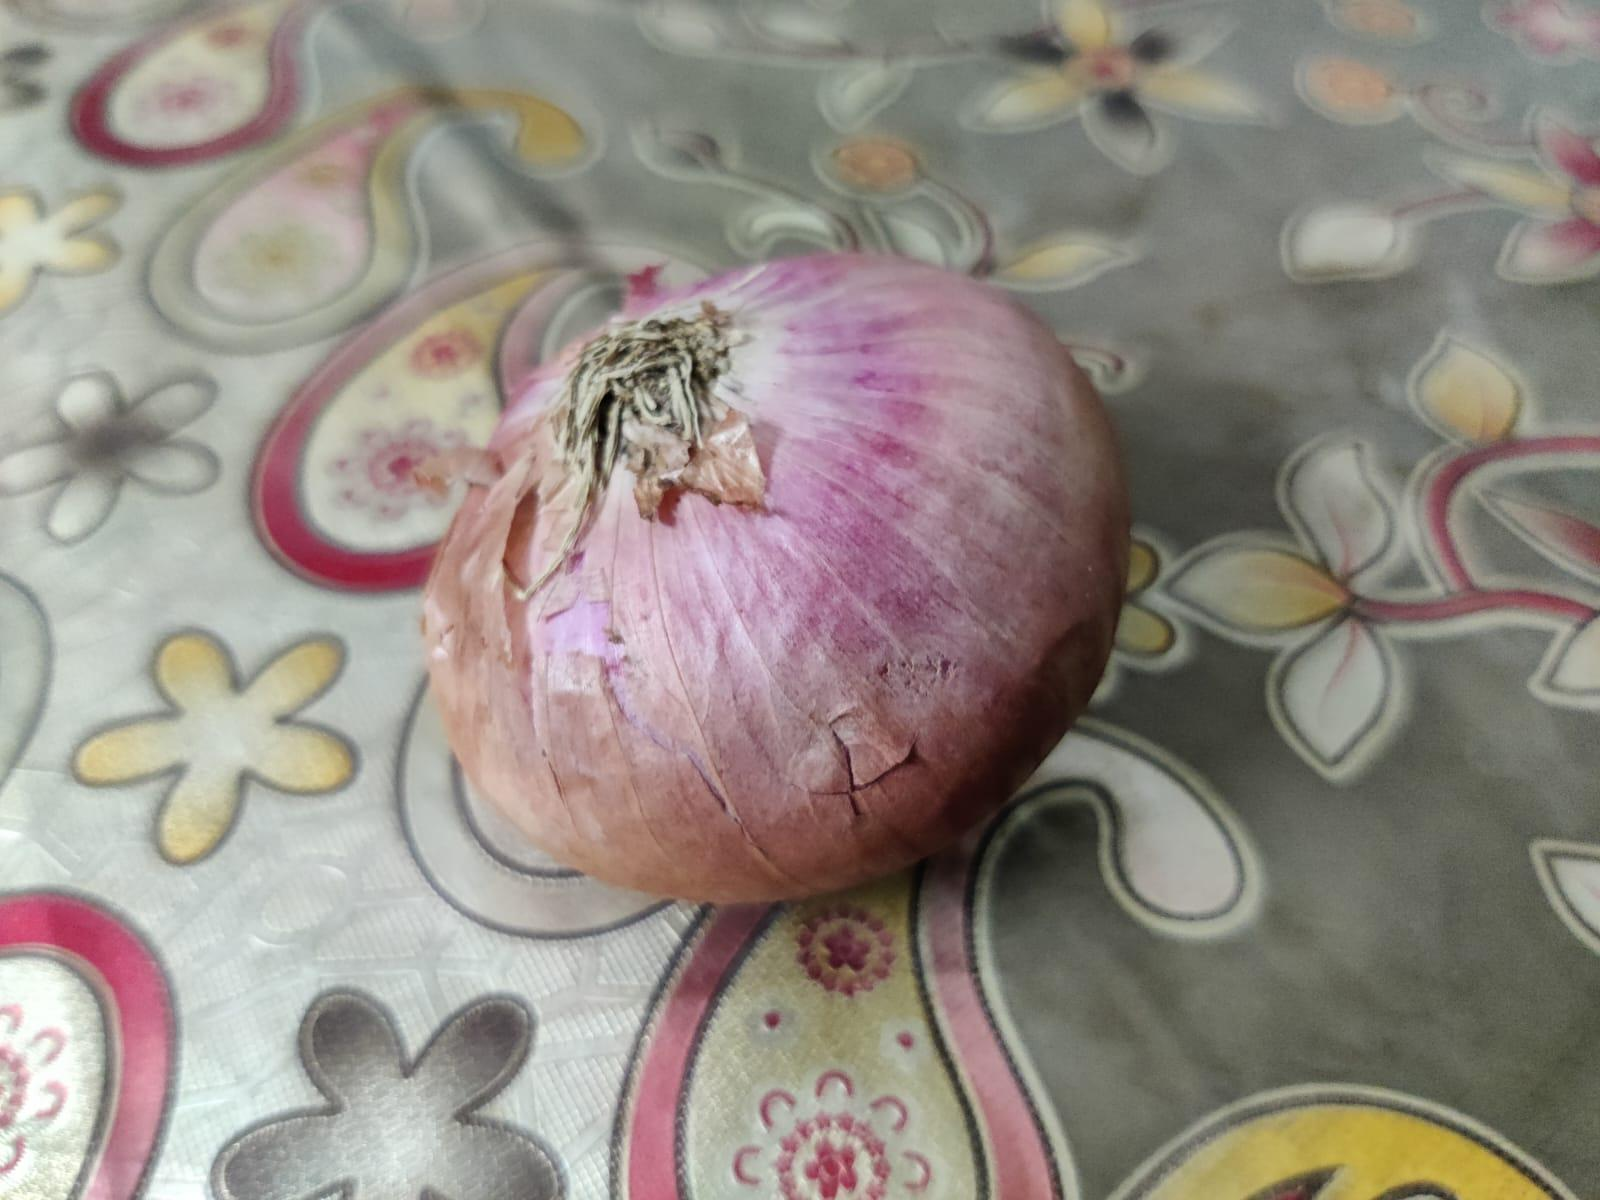non-mango: (413, 238, 1138, 901)
